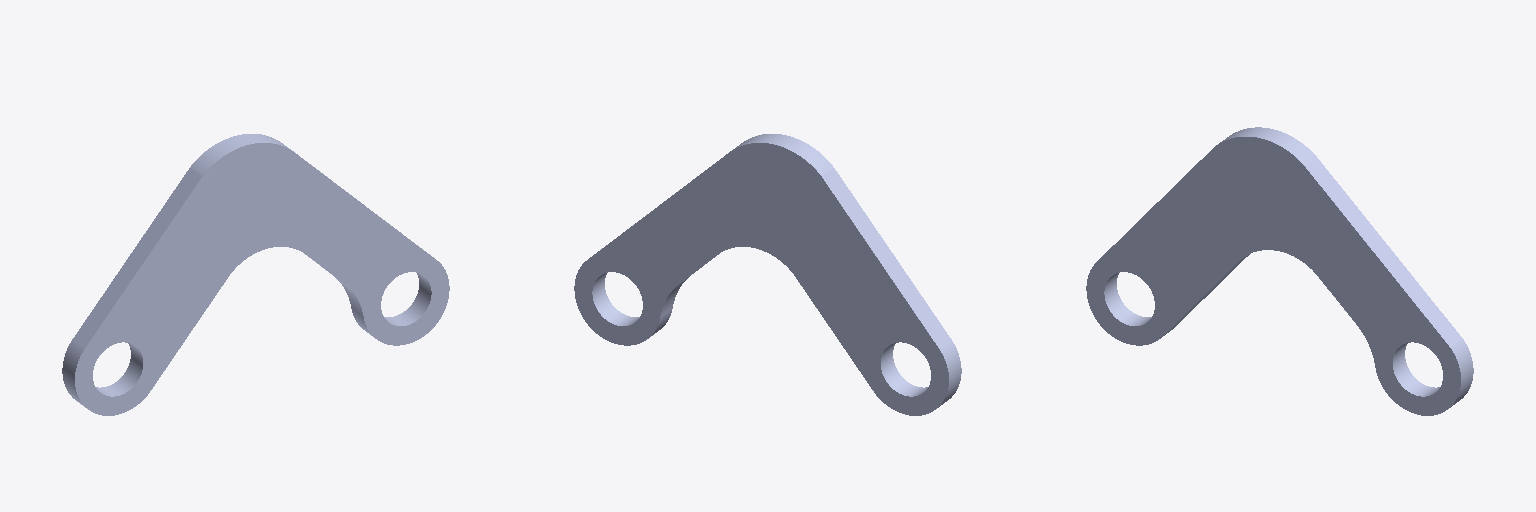
Rendered from eslabon_organoTerminal.obj.
3 renders of one model, left to right at view 1: azimuth 30°, elevation 25°; view 2: azimuth 150°, elevation 25°; view 3: azimuth 330°, elevation 25°, orthographic.
Visible parts, largest first — view 1: Fillet1; view 2: Fillet1; view 3: Fillet1.
Part boxes in pixels (left/top/right/bottom): Fillet1: left=62, top=134, right=449, bottom=415; Fillet1: left=574, top=134, right=961, bottom=415; Fillet1: left=1086, top=127, right=1473, bottom=415.
Bounding box in the file's own units: 10.24 × 6.22 × 0.5906.